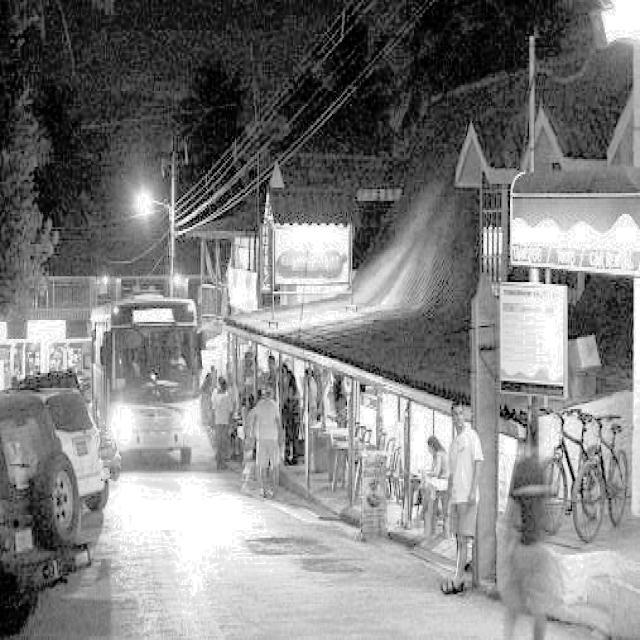Bicycle: (544, 399, 612, 541), (570, 414, 630, 543)
Bus: (100, 287, 208, 505)
Car: (0, 403, 82, 639), (7, 347, 101, 538)
Person: (510, 401, 558, 639), (440, 397, 486, 630), (410, 410, 446, 558), (250, 363, 284, 509), (206, 363, 242, 479)
